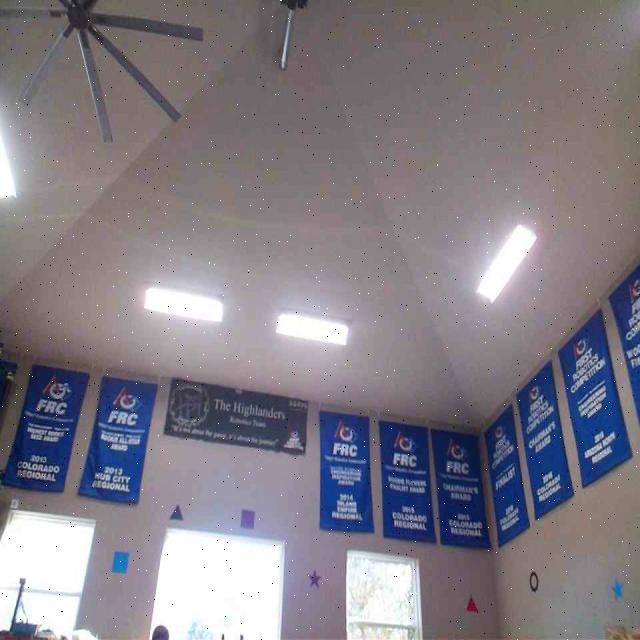ring_black: (528, 571, 538, 590)
square_blue: (111, 550, 130, 572)
square_purple: (238, 507, 255, 529), (169, 503, 184, 520)
star_blue: (609, 577, 623, 600)
star_purple: (308, 569, 321, 586)
triangle_red: (464, 594, 479, 612)
